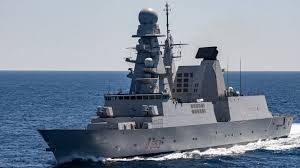Ship: (38, 8, 293, 163)
